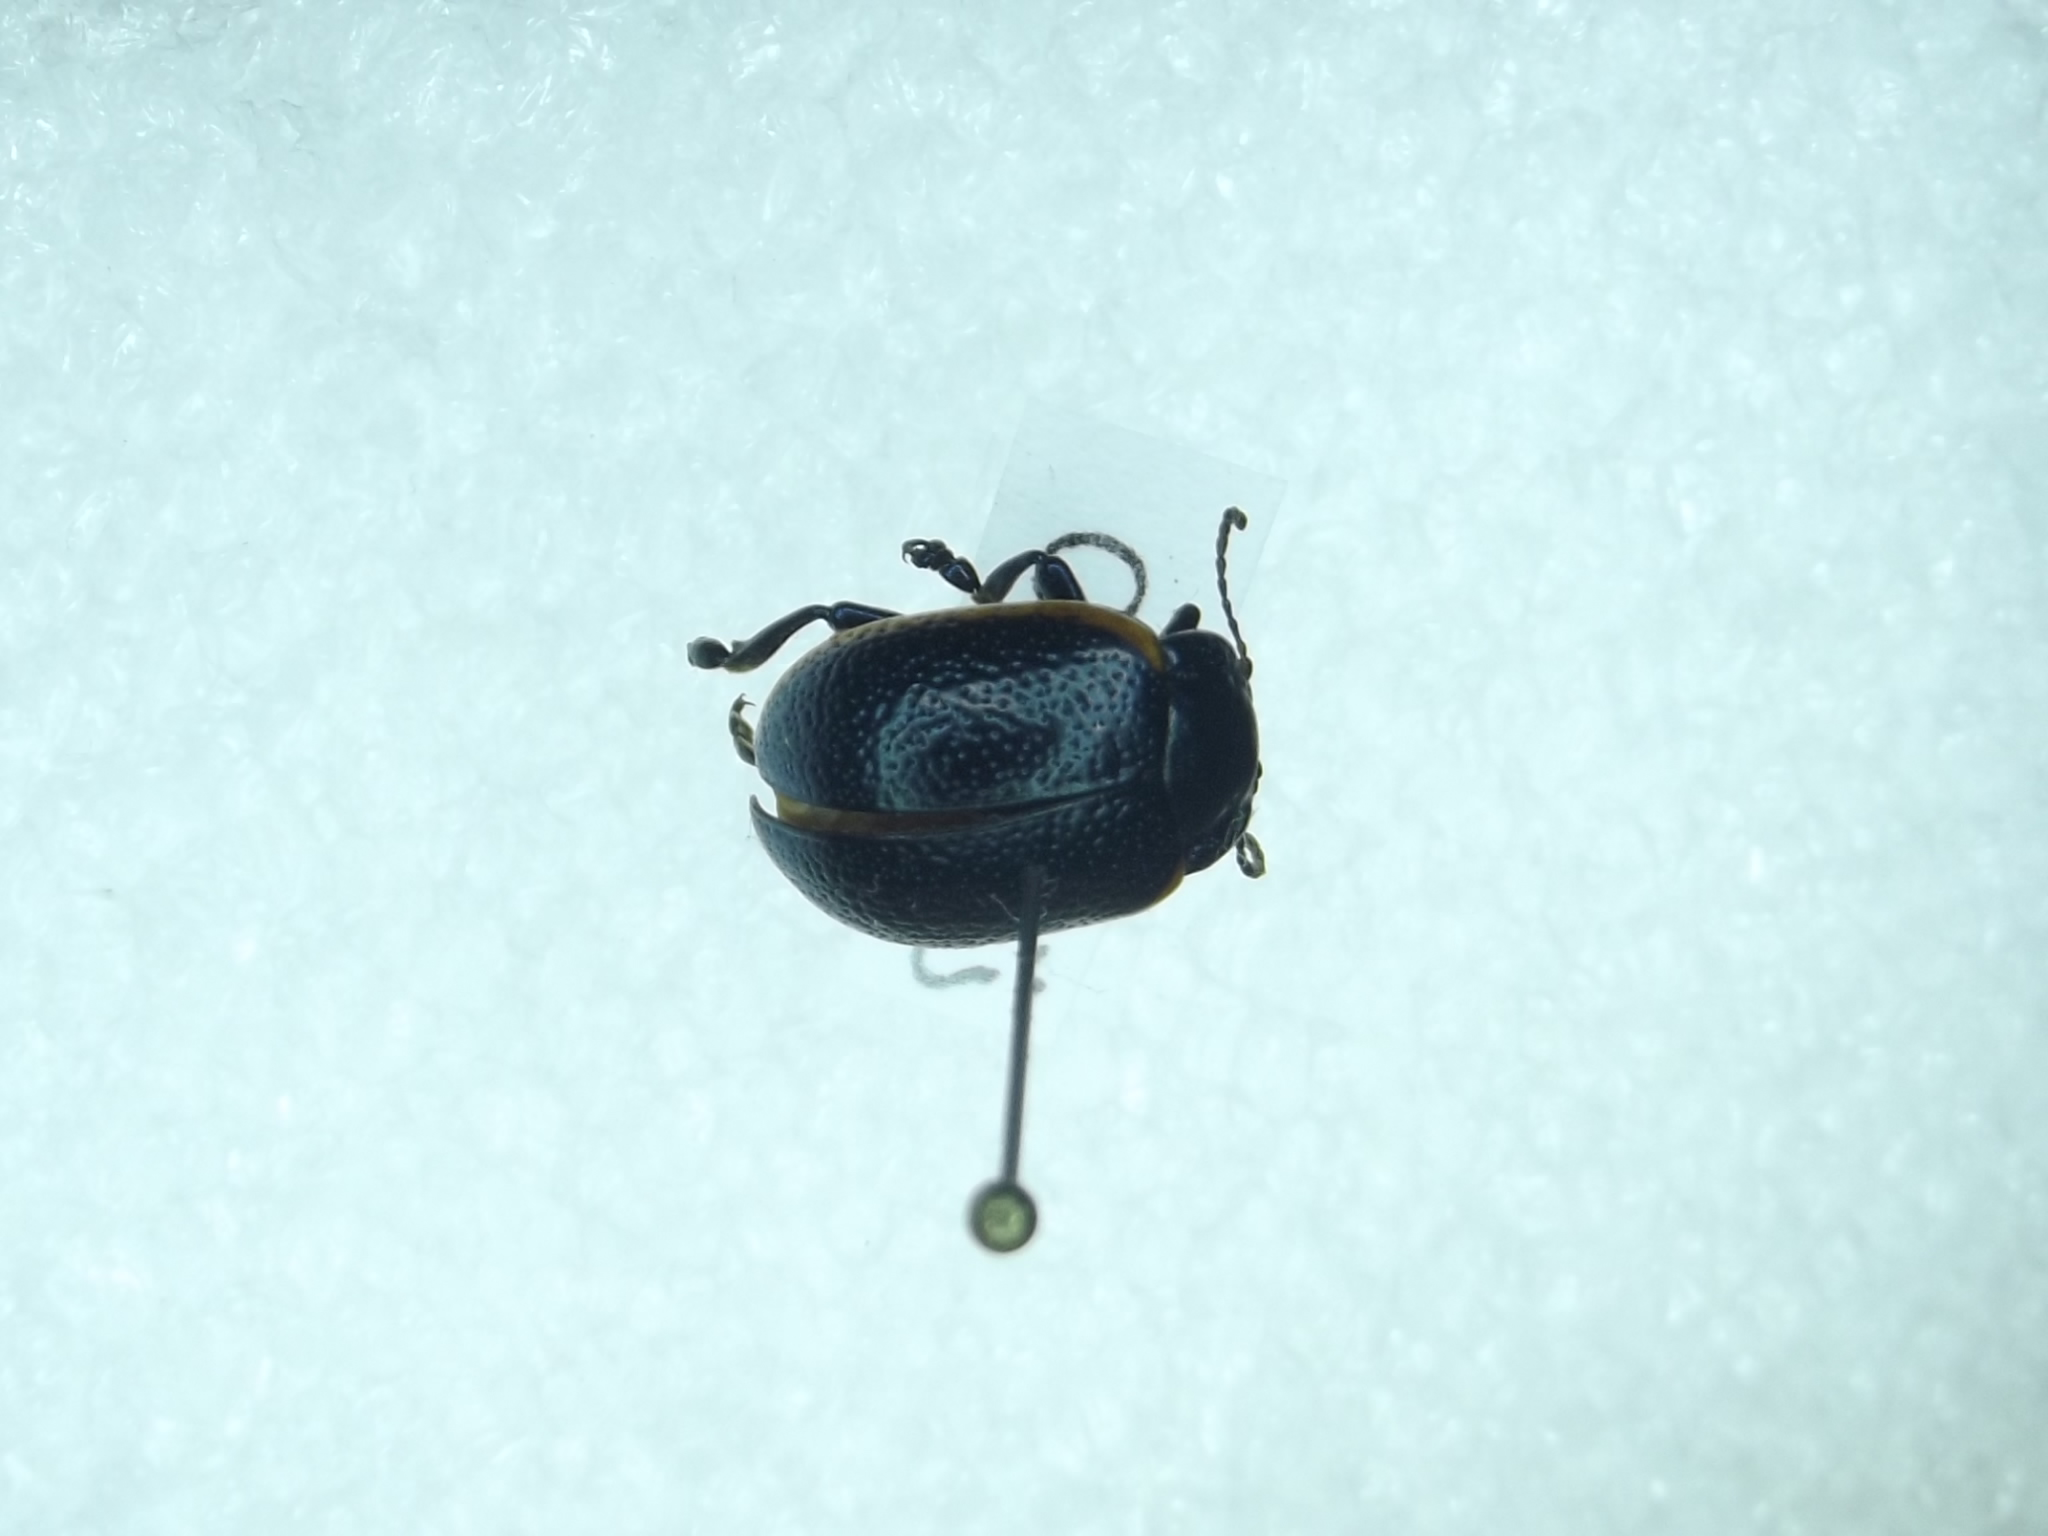Chrysolina_gypsophila: (682, 486, 1276, 954)
